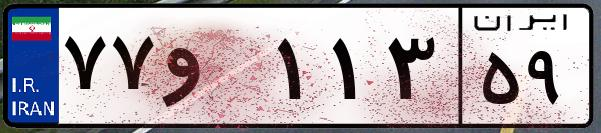1: (270, 28, 330, 110), (330, 28, 385, 110)
3: (385, 28, 445, 110)
5: (475, 38, 525, 113)
7: (57, 26, 110, 100), (110, 28, 158, 98)
9: (525, 38, 570, 115)
و: (158, 20, 270, 120)
